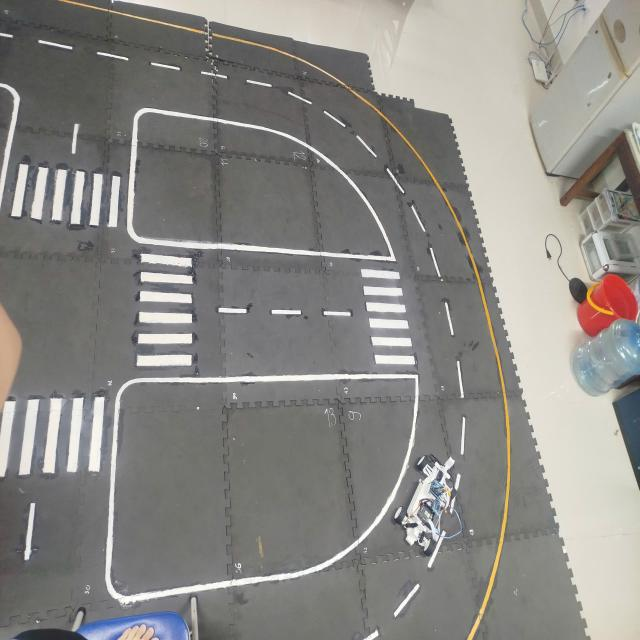SiCo-CAR: (393, 452, 461, 558)
